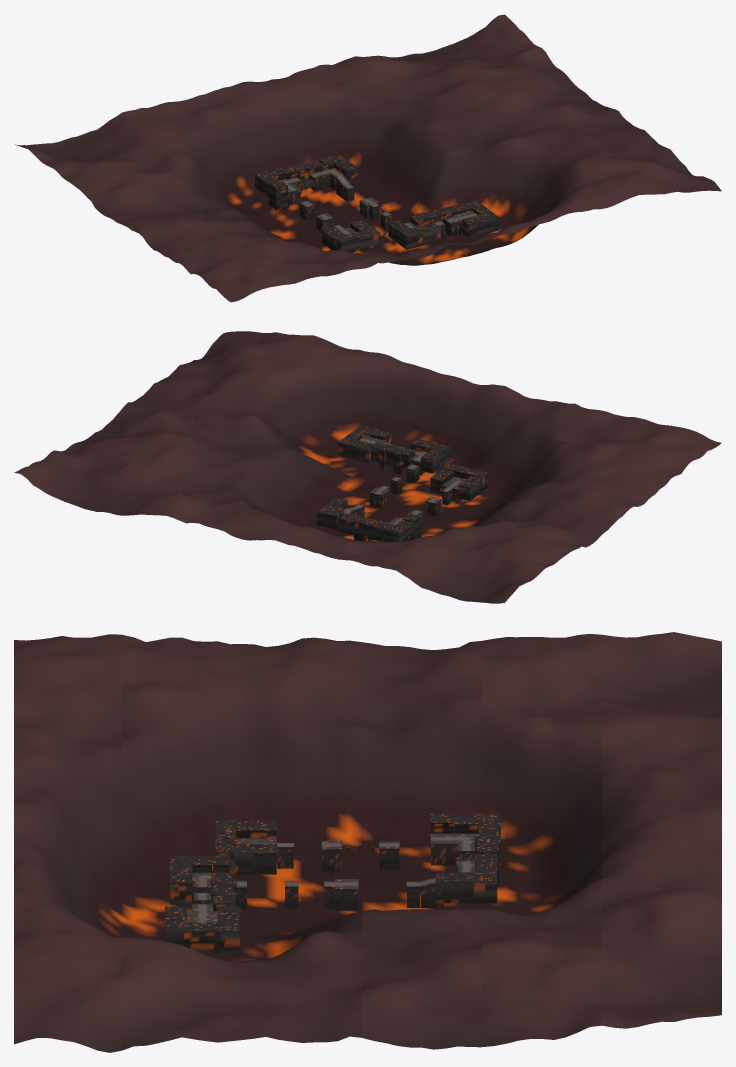
File: lava_ferry_terrain.glb
3 renders of one model, top to bottom at view 1: azimuth 30°, elevation 25°; view 2: azimuth 150°, elevation 25°; view 3: azimuth 270°, elevation 25°, orthographic. The views are drawn at different scales.
Parts seen in each view (by area): view 1: backdrop_4, backdrop_5, backdrop_3, backdrop_2, backdrop_1, backdrop_0, terrain_E, terrain_A, terrain_F, terrain_J, terrain_H, terrain_I (+1 smaller); view 2: backdrop_0, backdrop_1, backdrop_5, backdrop_2, backdrop_3, backdrop_4, terrain_E, terrain_A, terrain_J, terrain_F, terrain_H, terrain_I (+2 smaller); view 3: backdrop_4, backdrop_5, backdrop_0, backdrop_2, backdrop_3, backdrop_1, terrain_F, terrain_J, terrain_A, terrain_E, terrain_H, terrain_I (+4 smaller).
Part boxes in pixels (bbox=[...]): backdrop_4: bbox=[51, 48, 577, 204]; backdrop_5: bbox=[15, 14, 541, 167]; backdrop_3: bbox=[88, 86, 614, 231]; backdrop_2: bbox=[125, 109, 651, 253]; backdrop_1: bbox=[161, 137, 688, 274]; backdrop_0: bbox=[198, 161, 721, 302]; terrain_E: bbox=[255, 160, 330, 196]; terrain_A: bbox=[321, 219, 380, 252]; terrain_F: bbox=[319, 154, 379, 218]; terrain_J: bbox=[447, 200, 499, 237]; terrain_H: bbox=[388, 220, 440, 249]; terrain_I: bbox=[410, 207, 459, 238]; backdrop_0: bbox=[198, 331, 721, 463]; backdrop_1: bbox=[161, 350, 688, 501]; backdrop_5: bbox=[14, 452, 541, 603]; backdrop_2: bbox=[124, 380, 651, 528]; backdrop_3: bbox=[88, 406, 614, 548]; backdrop_4: bbox=[51, 437, 577, 571]; terrain_E: bbox=[338, 513, 413, 541]; terrain_A: bbox=[430, 463, 488, 502]; terrain_J: bbox=[338, 425, 391, 462]; terrain_F: bbox=[317, 487, 389, 529]; terrain_H: bbox=[409, 438, 450, 475]; terrain_I: bbox=[370, 442, 420, 474]; backdrop_4: bbox=[482, 634, 601, 1046]; backdrop_5: bbox=[602, 632, 721, 1028]; backdrop_0: bbox=[14, 634, 121, 1052]; backdrop_2: bbox=[242, 637, 361, 1042]; backdrop_3: bbox=[362, 641, 481, 1049]; backdrop_1: bbox=[122, 634, 241, 1050]; terrain_F: bbox=[334, 865, 497, 910]; terrain_J: bbox=[165, 906, 240, 952]; terrain_A: bbox=[215, 819, 276, 874]; terrain_E: bbox=[454, 815, 500, 885]; terrain_H: bbox=[170, 855, 229, 904]; terrain_I: bbox=[192, 873, 236, 911].
Bounding box in the file's own units: 539 × 59.88 × 413.
